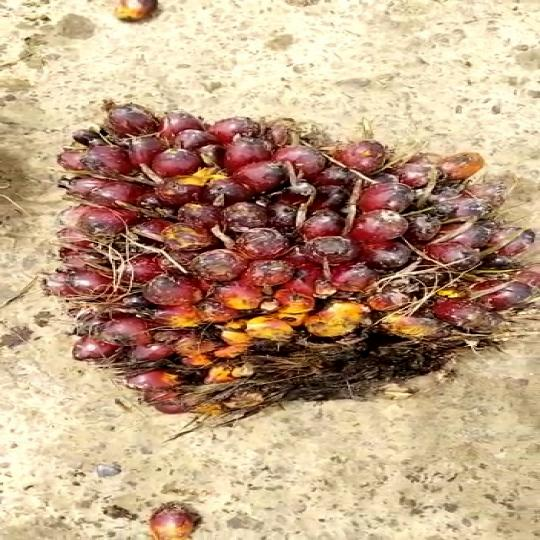kurang masak: (13, 80, 540, 439)
